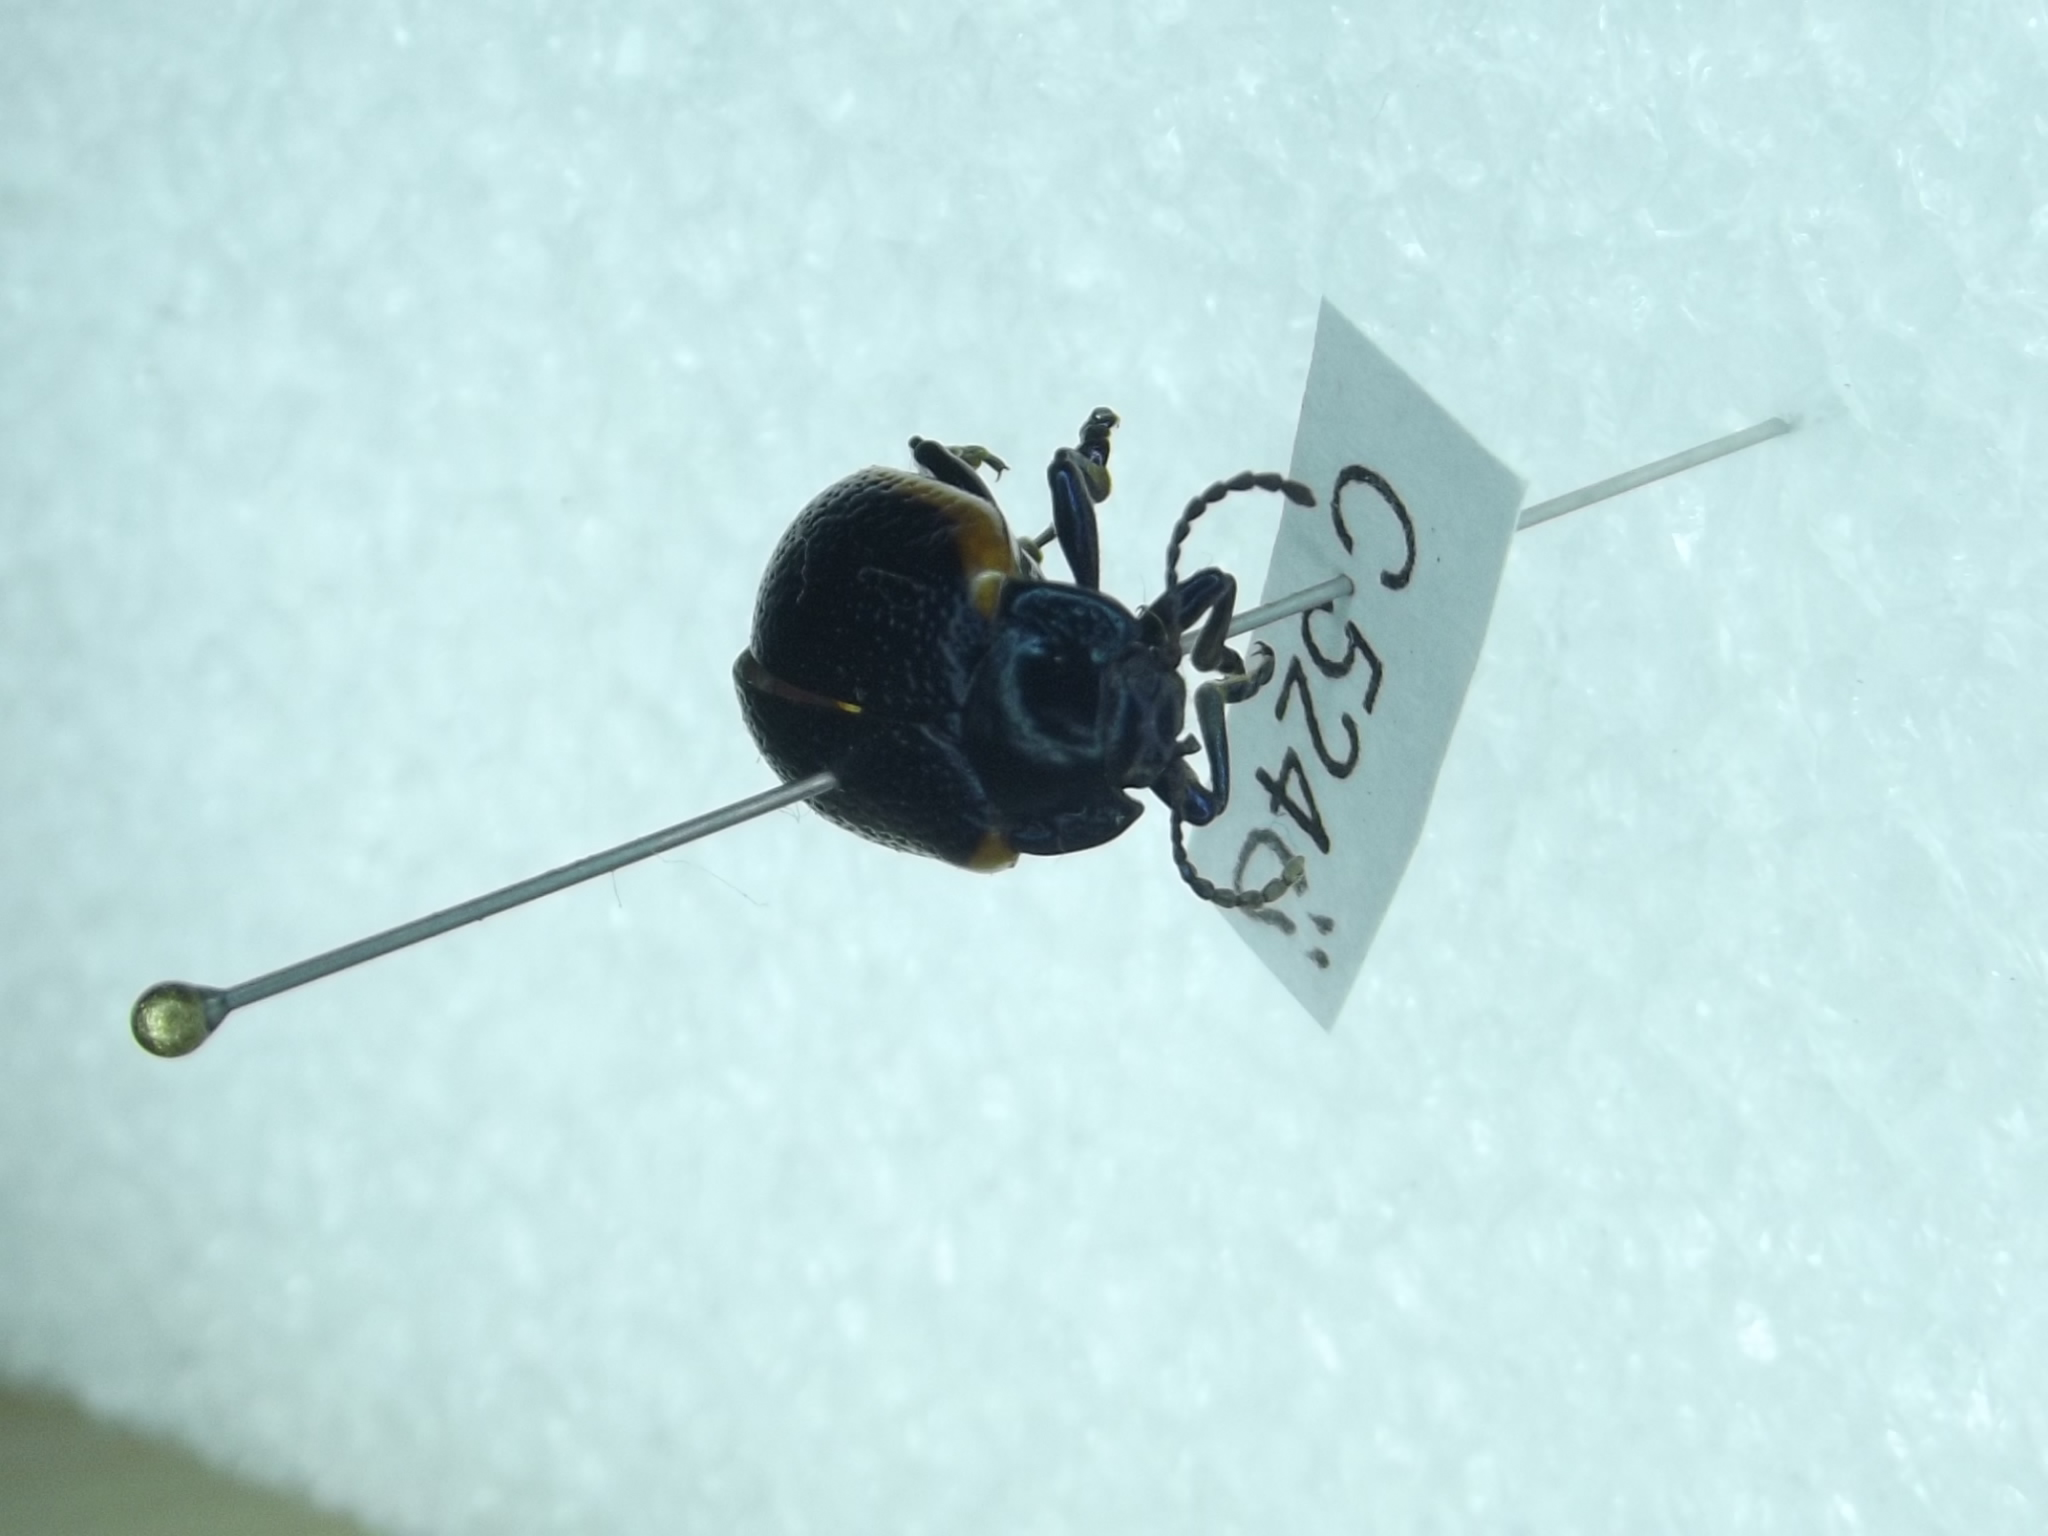Chrysolina_gypsophila: (710, 402, 1322, 891)
